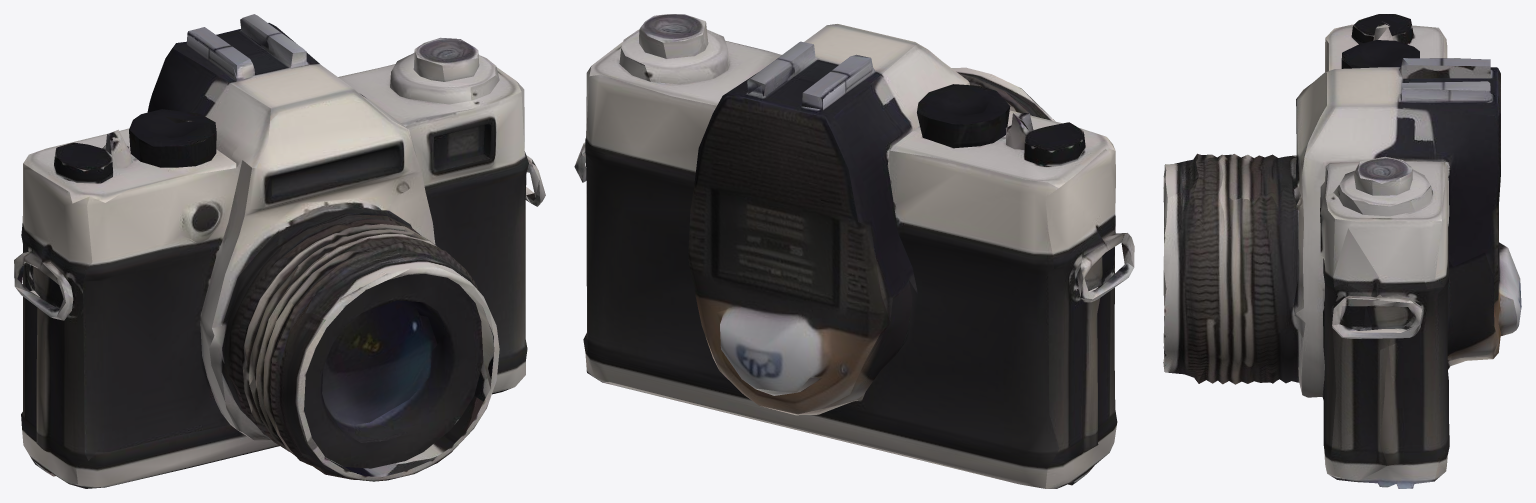
File: film_camera.glb
3 views of the same model, side by side, from view 1: azimuth 30°, elevation 25°; view 2: azimuth 150°, elevation 25°; view 3: azimuth 270°, elevation 25° (orthographic). The views are drawn at different scales.
Visible parts, largest first — view 1: film_camera; view 2: film_camera; view 3: film_camera.
Part boxes in pixels (x1,y1,x2,y2): film_camera: (14, 14, 545, 488); film_camera: (574, 14, 1134, 488); film_camera: (1163, 14, 1521, 488).
Bounding box in the file's own units: 1 × 0.6959 × 0.7064.
Materials: 1 (1 with a texture image).
